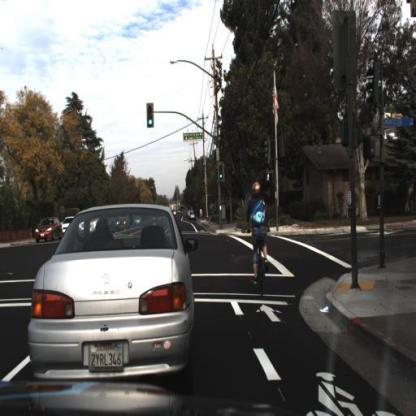biker: (231, 168, 275, 317), (247, 180, 271, 302)
car: (30, 201, 202, 394), (34, 214, 62, 246)
pedestrian: (204, 193, 217, 235), (198, 208, 206, 229)
trafficLight: (218, 164, 226, 187)
trafficLight-Green: (146, 104, 156, 133)
